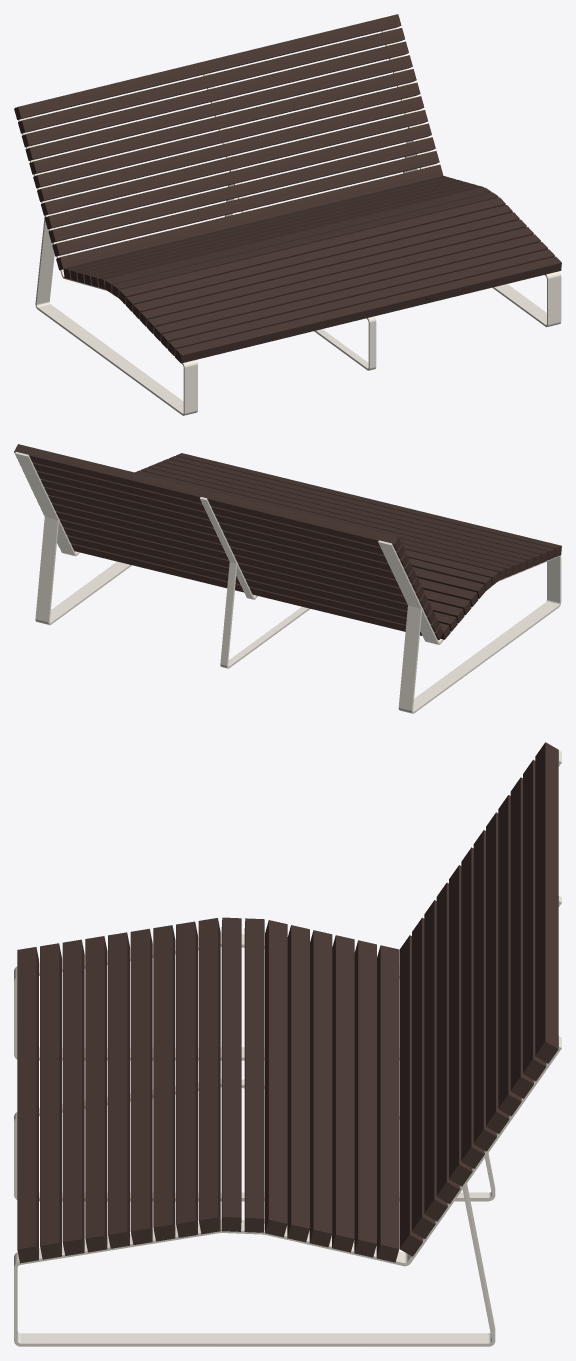
File: G4_std.glb
The picture shows the model from 3 angles, top to bottom: view 1: azimuth 30°, elevation 25°; view 2: azimuth 150°, elevation 25°; view 3: azimuth 270°, elevation 25°; orthographic projection. The views are drawn at different scales.
Parts seen in each view (by area): view 1: G4_std; view 2: G4_std; view 3: G4_std.
Boxes of the visible parts, <box> form: G4_std: <box>14,14,561,415</box>; G4_std: <box>14,444,561,713</box>; G4_std: <box>14,742,561,1346</box>.
Size of the model in its own units: 2 by 0.9557 by 1.55.
